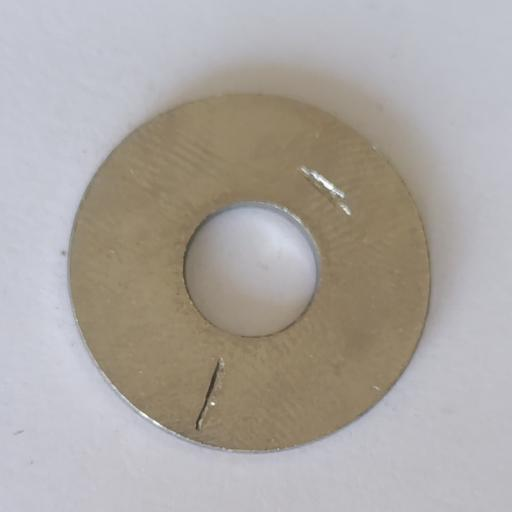scratch: (301, 165, 351, 215), (196, 358, 225, 431)
